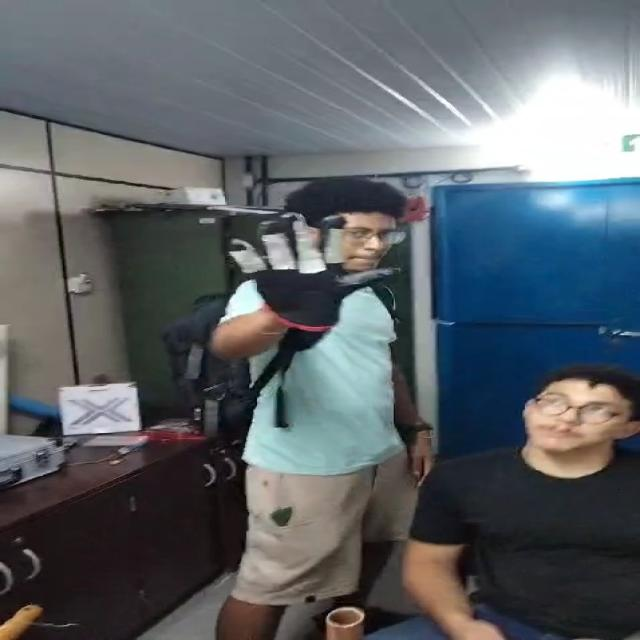Gloves: (221, 211, 395, 339)
